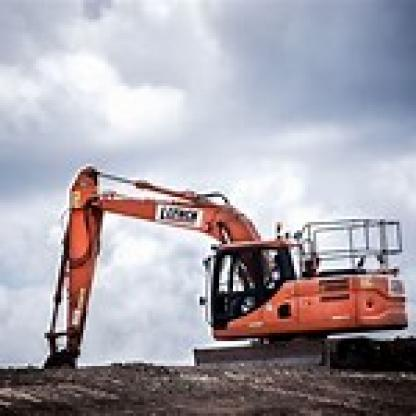excavator: (28, 130, 413, 391)
